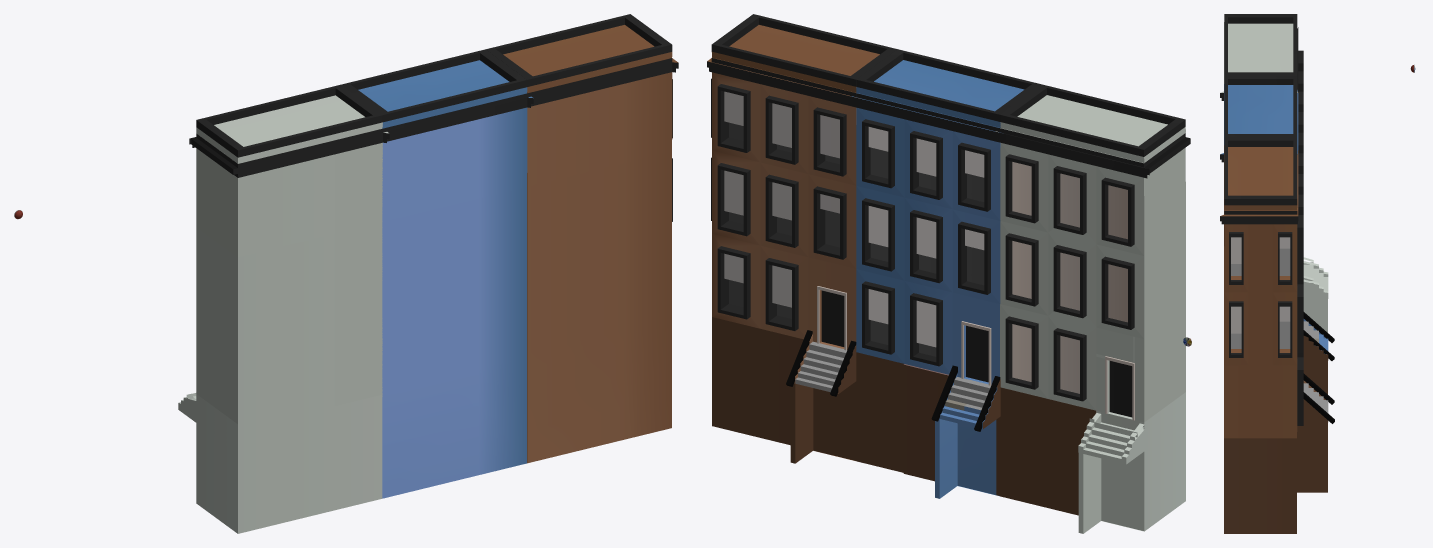
Rendered from more buildings.fbx.
3 renders of one model, left to right at view 1: azimuth 30°, elevation 25°; view 2: azimuth 150°, elevation 25°; view 3: azimuth 270°, elevation 25°, orthographic. The views are drawn at different scales.
Parts seen in each view (by area): view 1: Cube.100, Cube.098, Cube.096; view 2: Cube.100, Cube.098, Cube.096; view 3: Cube.098, Cube.100, Cube.096.
Boxes of the visible parts, x1,y1,x2,y2 form: Cube.100: [178, 84, 389, 533]; Cube.098: [486, 14, 678, 463]; Cube.096: [341, 49, 533, 498]; Cube.100: [995, 84, 1190, 533]; Cube.098: [707, 14, 897, 463]; Cube.096: [851, 49, 1040, 498]; Cube.098: [1220, 137, 1328, 533]; Cube.100: [1220, 14, 1328, 332]; Cube.096: [1220, 75, 1328, 394].
Bounding box in the file's own units: 319976 × 211855 × 114062.
Materials: 8 (4 with a texture image).
